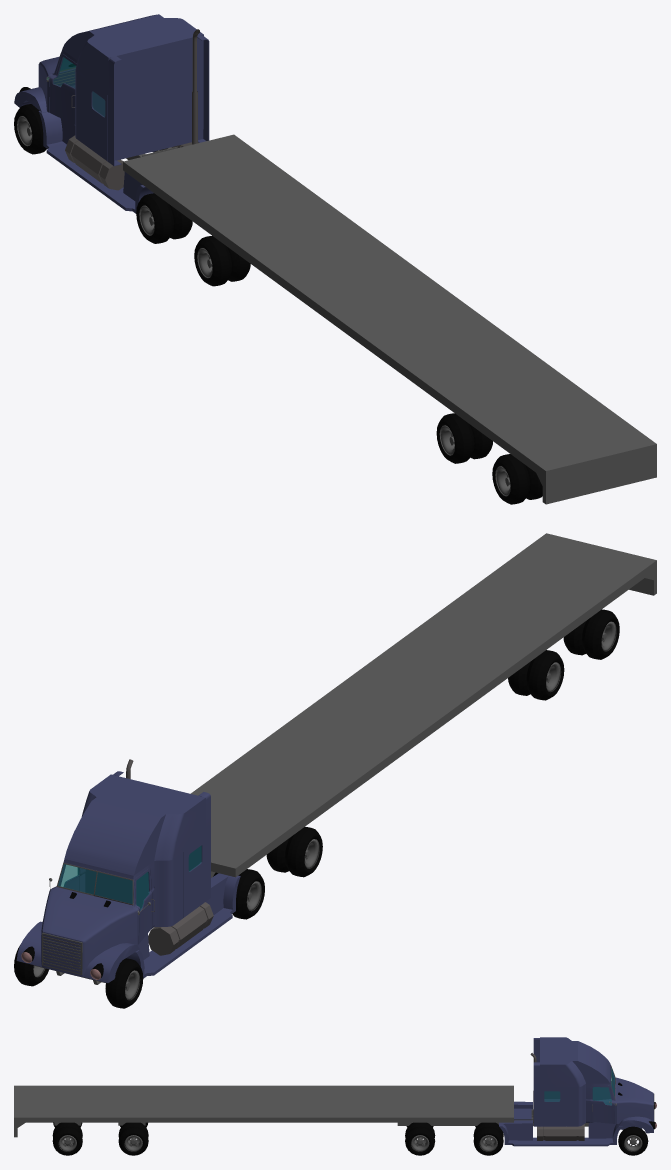
Rendered from lorry.fbx.
3 views of the same model, one above another, from view 1: azimuth 30°, elevation 25°; view 2: azimuth 150°, elevation 25°; view 3: azimuth 270°, elevation 25° (orthographic). The views are drawn at different scales.
Parts seen in each view (by area): view 1: side1; view 2: side1; view 3: side1.
Part boxes in pixels (<box>): side1: <box>14,14,656,504</box>; side1: <box>14,533,656,1008</box>; side1: <box>14,1037,656,1155</box>.
Bounding box in the file's own units: 357 × 506 × 3000.
